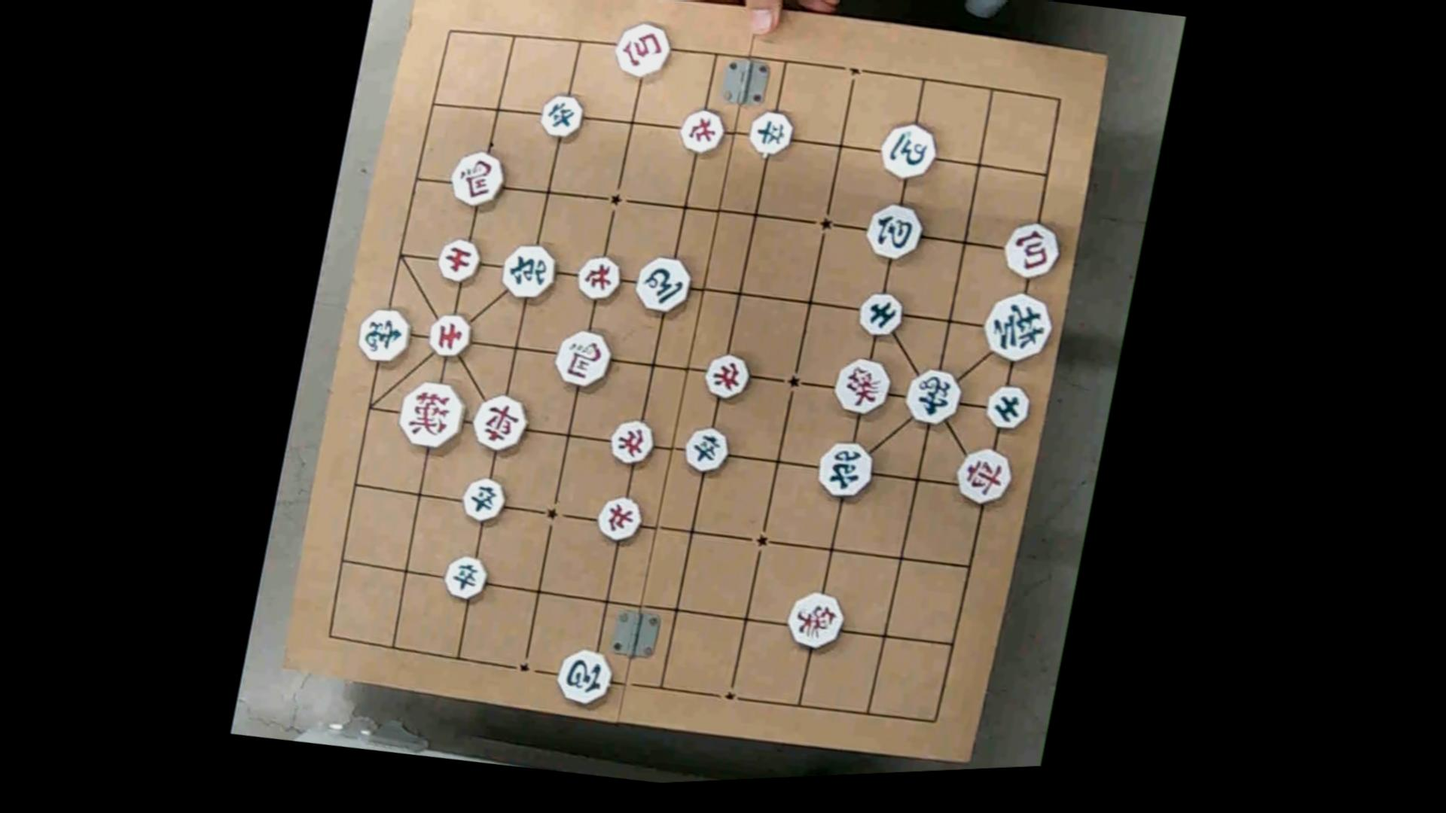cha_green: (499, 239, 560, 302), (816, 439, 875, 499)
cha_red: (953, 442, 1015, 510), (471, 388, 529, 455)
jol_green: (682, 422, 733, 479), (750, 105, 797, 159), (460, 470, 505, 526), (539, 90, 587, 142), (442, 550, 488, 604)
jol_red: (703, 347, 753, 405), (594, 492, 645, 548), (608, 414, 657, 469), (679, 102, 726, 157), (577, 252, 624, 303)
ma_green: (634, 250, 694, 316), (879, 118, 938, 184)
ma_red: (447, 147, 505, 212), (555, 324, 612, 388)
po_green: (864, 196, 925, 263), (555, 645, 615, 709)
po_red: (1003, 218, 1063, 284), (615, 19, 675, 81)
sa_green: (856, 287, 904, 342), (986, 380, 1034, 433)
sa_red: (434, 234, 482, 288), (426, 310, 474, 360)
sang_green: (904, 366, 964, 425), (356, 305, 413, 364)
sang_red: (782, 586, 847, 651), (831, 352, 893, 418)
wang_green: (982, 288, 1057, 370)
wang_red: (398, 379, 466, 447)
